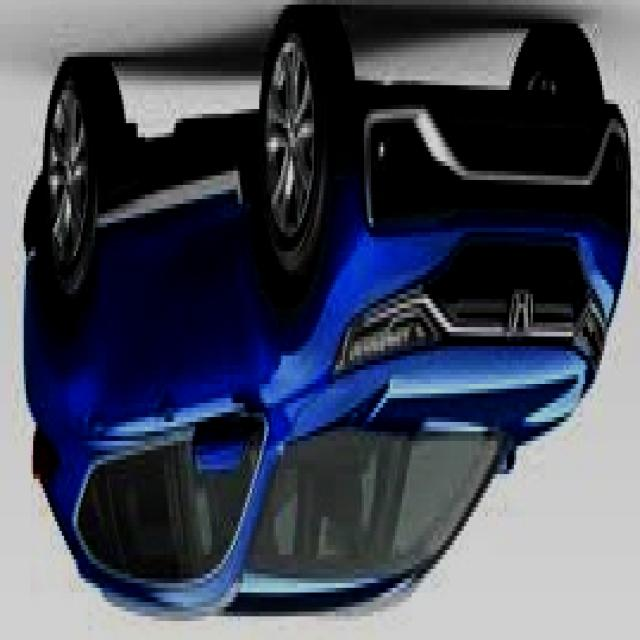blue: (23, 11, 627, 624)
